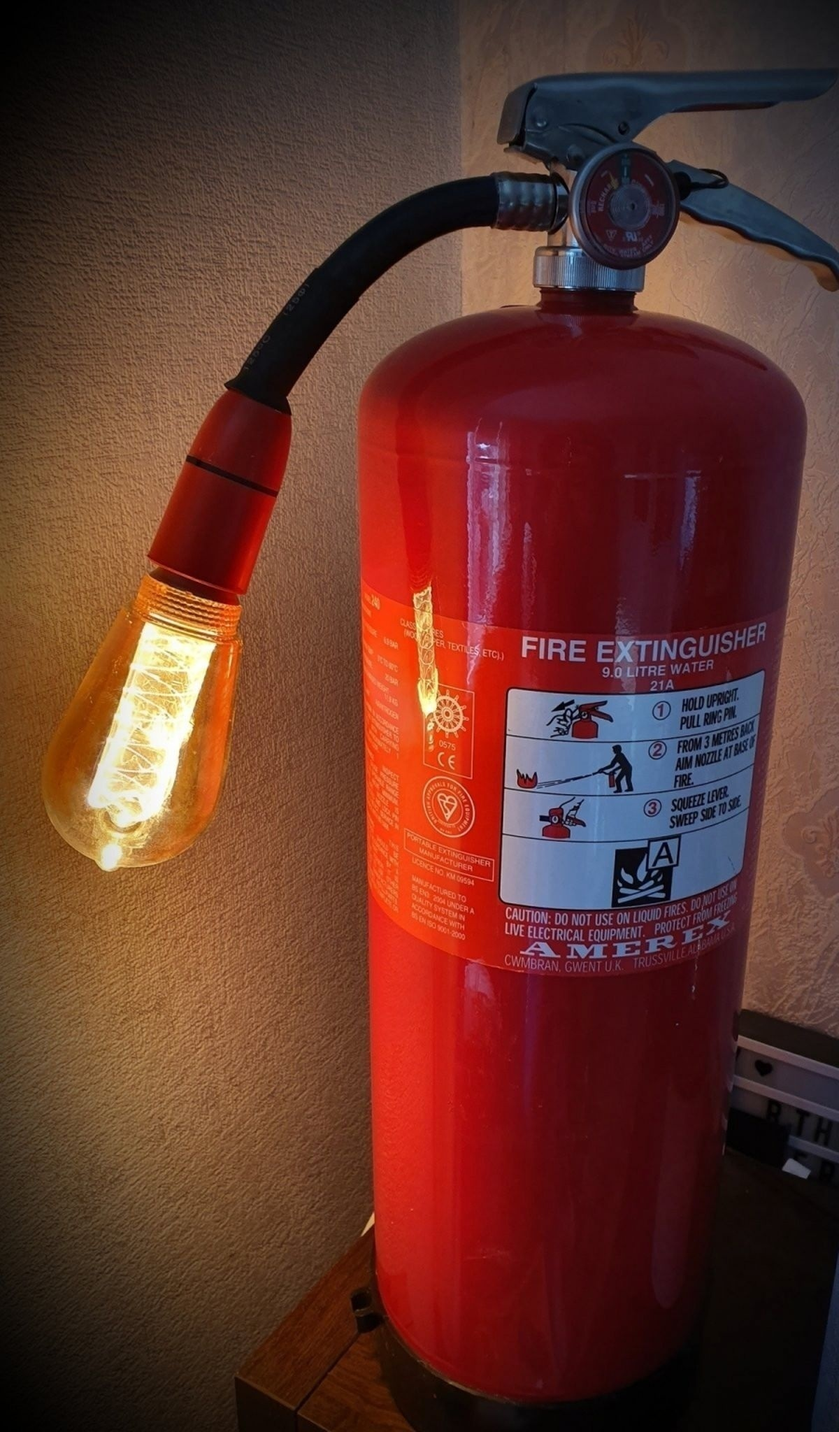fire_extinguisher: (40, 63, 837, 1427)
